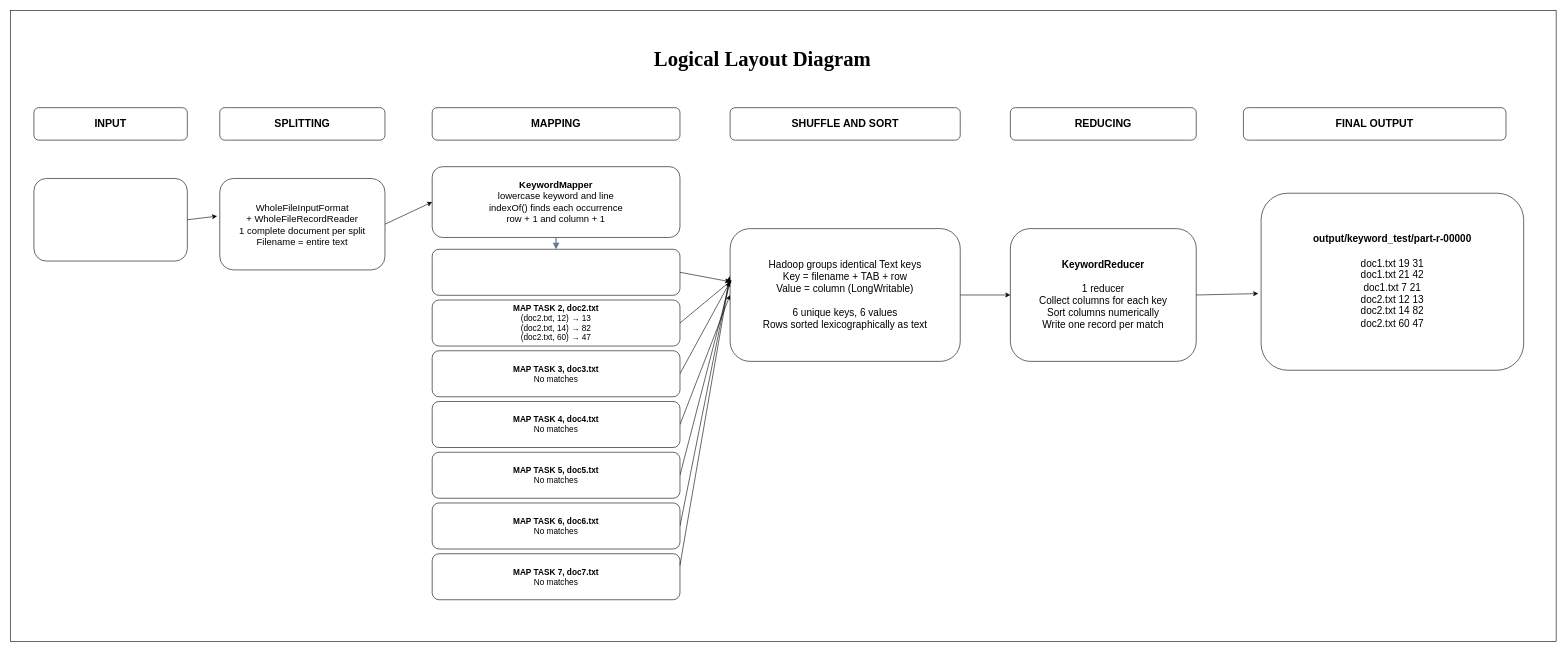
This 1566x652 diagram has some shape labels left out. The centre of each missing label's shape, as x and y in pixels:
Local filesystem (file:///) doc1.txt to doc7.txt: [110,219]
MAP TASK 1, doc1.txt (doc1.txt, 7) → 21 (doc1.txt, 19) → 31 (doc1.txt, 21) → 42: [556,272]
